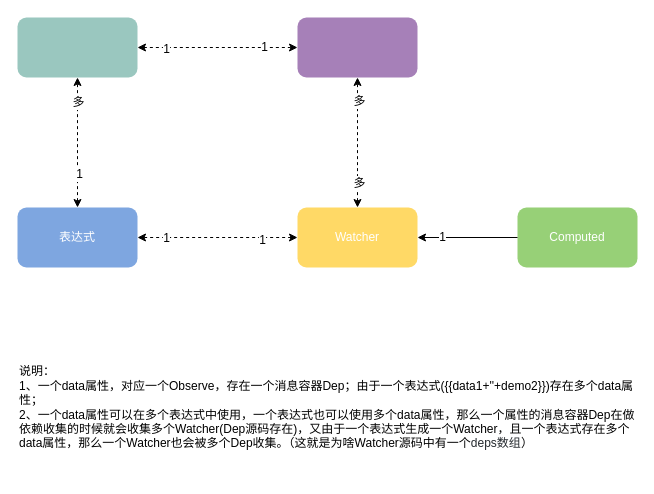
Image size: 654x494. Some labels were removed from this diagram. Each missing label, with the centre of its shape:
"Data属性" goes at [77,47].
"消息容器Dep" goes at [357,47].
